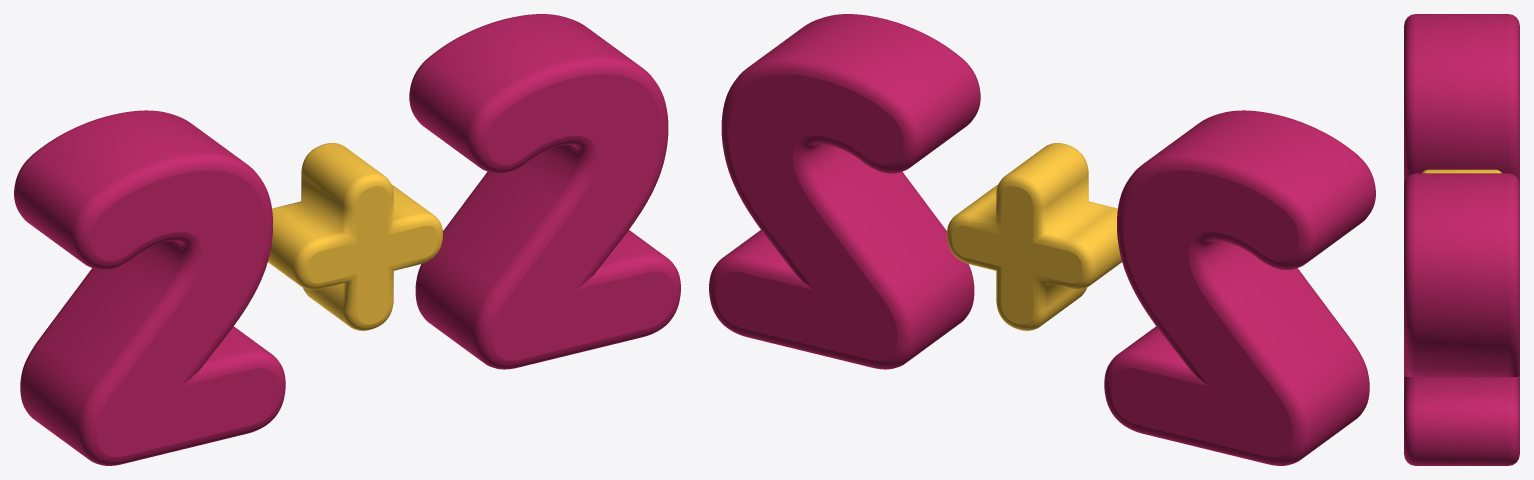
Rendered from addition.glb.
3 renders of one model, left to right at view 1: azimuth 30°, elevation 25°; view 2: azimuth 150°, elevation 25°; view 3: azimuth 270°, elevation 25°, orthographic. The views are drawn at different scales.
Parts seen in each view (by area): view 1: Berry two, Berry two.001, Sunshine plus; view 2: Berry two, Berry two.001, Sunshine plus; view 3: Berry two.001, Berry two, Sunshine plus.
Part boxes in pixels (bbox=[...]): Berry two: bbox=[14, 110, 285, 465]; Berry two.001: bbox=[409, 14, 680, 369]; Sunshine plus: bbox=[268, 143, 442, 330]; Berry two: bbox=[1104, 110, 1375, 465]; Berry two.001: bbox=[709, 14, 980, 369]; Sunshine plus: bbox=[947, 143, 1121, 330]; Berry two.001: bbox=[1404, 173, 1519, 465]; Berry two: bbox=[1404, 14, 1519, 184]; Sunshine plus: bbox=[1422, 169, 1501, 173].
Size of the model in its own units: 2.7 by 1.25 by 0.5403.
